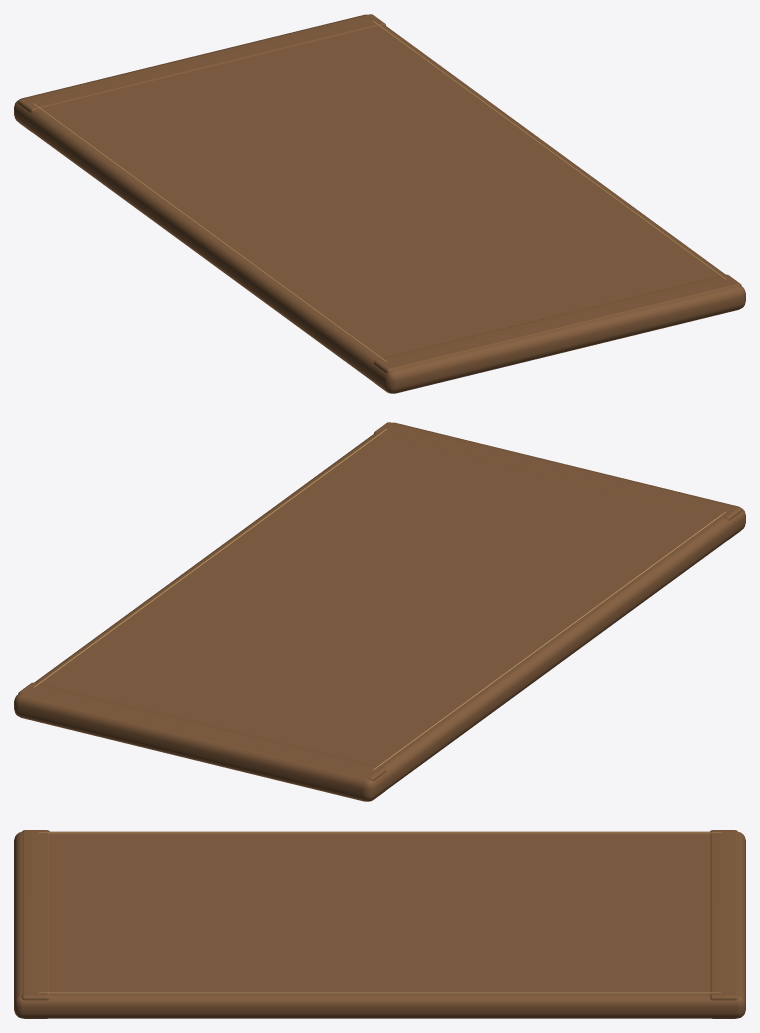
The model's file is Architecture044.fbx.
3 views of the same model, one above another, from view 1: azimuth 30°, elevation 25°; view 2: azimuth 150°, elevation 25°; view 3: azimuth 270°, elevation 25° (orthographic). The views are drawn at different scales.
Visible parts, largest first — view 1: Architecture044; view 2: Architecture044; view 3: Architecture044.
Part boxes in pixels (x1,y1,x2,y2): Architecture044: (14, 14, 745, 393); Architecture044: (14, 422, 745, 801); Architecture044: (14, 830, 745, 1018).
Size of the model in its own units: 220 by 14.5 by 400.
